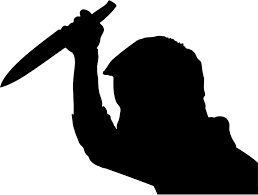knife: (1, 1, 124, 92)
